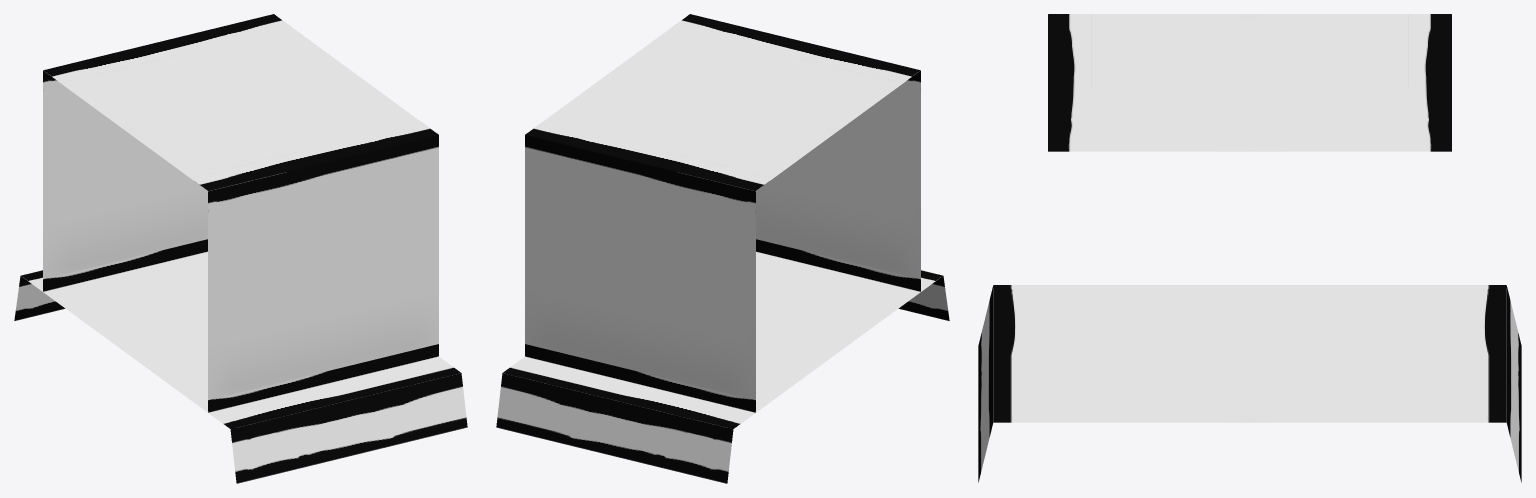
File: 2 Sides Middle Building.fbx
The picture shows the model from 3 angles, left to right: view 1: azimuth 30°, elevation 25°; view 2: azimuth 150°, elevation 25°; view 3: azimuth 270°, elevation 25°; orthographic projection. The views are drawn at different scales.
Parts seen in each view (by area): view 1: 2 Sides Normal, 2 Sides Middle Groud; view 2: 2 Sides Normal, 2 Sides Middle Groud; view 3: 2 Sides Middle Groud, 2 Sides Normal.
Part boxes in pixels (bbox=[...]): 2 Sides Normal: bbox=[43, 14, 438, 412]; 2 Sides Middle Groud: bbox=[14, 252, 467, 483]; 2 Sides Normal: bbox=[525, 14, 920, 412]; 2 Sides Middle Groud: bbox=[496, 252, 949, 483]; 2 Sides Middle Groud: bbox=[978, 285, 1521, 482]; 2 Sides Normal: bbox=[1048, 14, 1451, 151].
Bounding box in the file's own units: 120 × 135 × 200.
